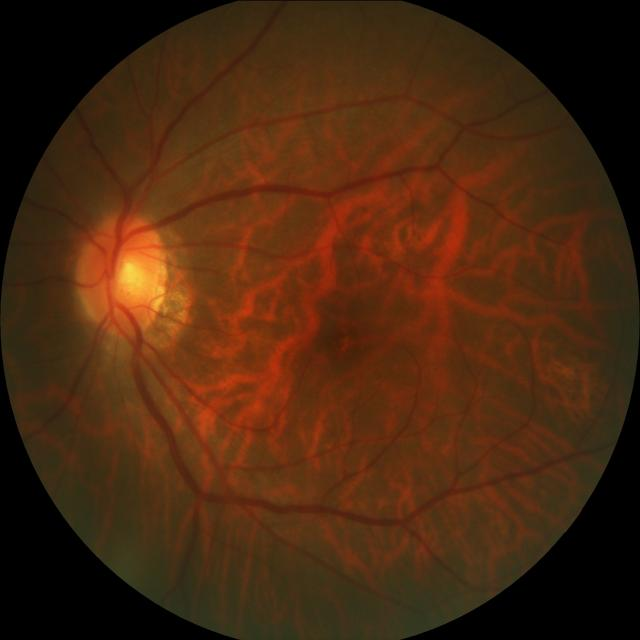OC: (104, 254, 148, 304)
OD: (74, 210, 166, 335)
